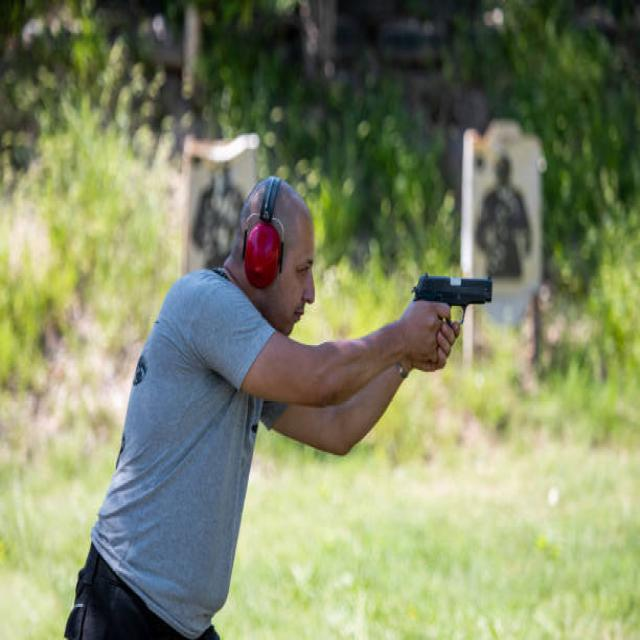soldier: (58, 150, 498, 640)
